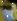with_mask: (2, 1, 17, 21)
